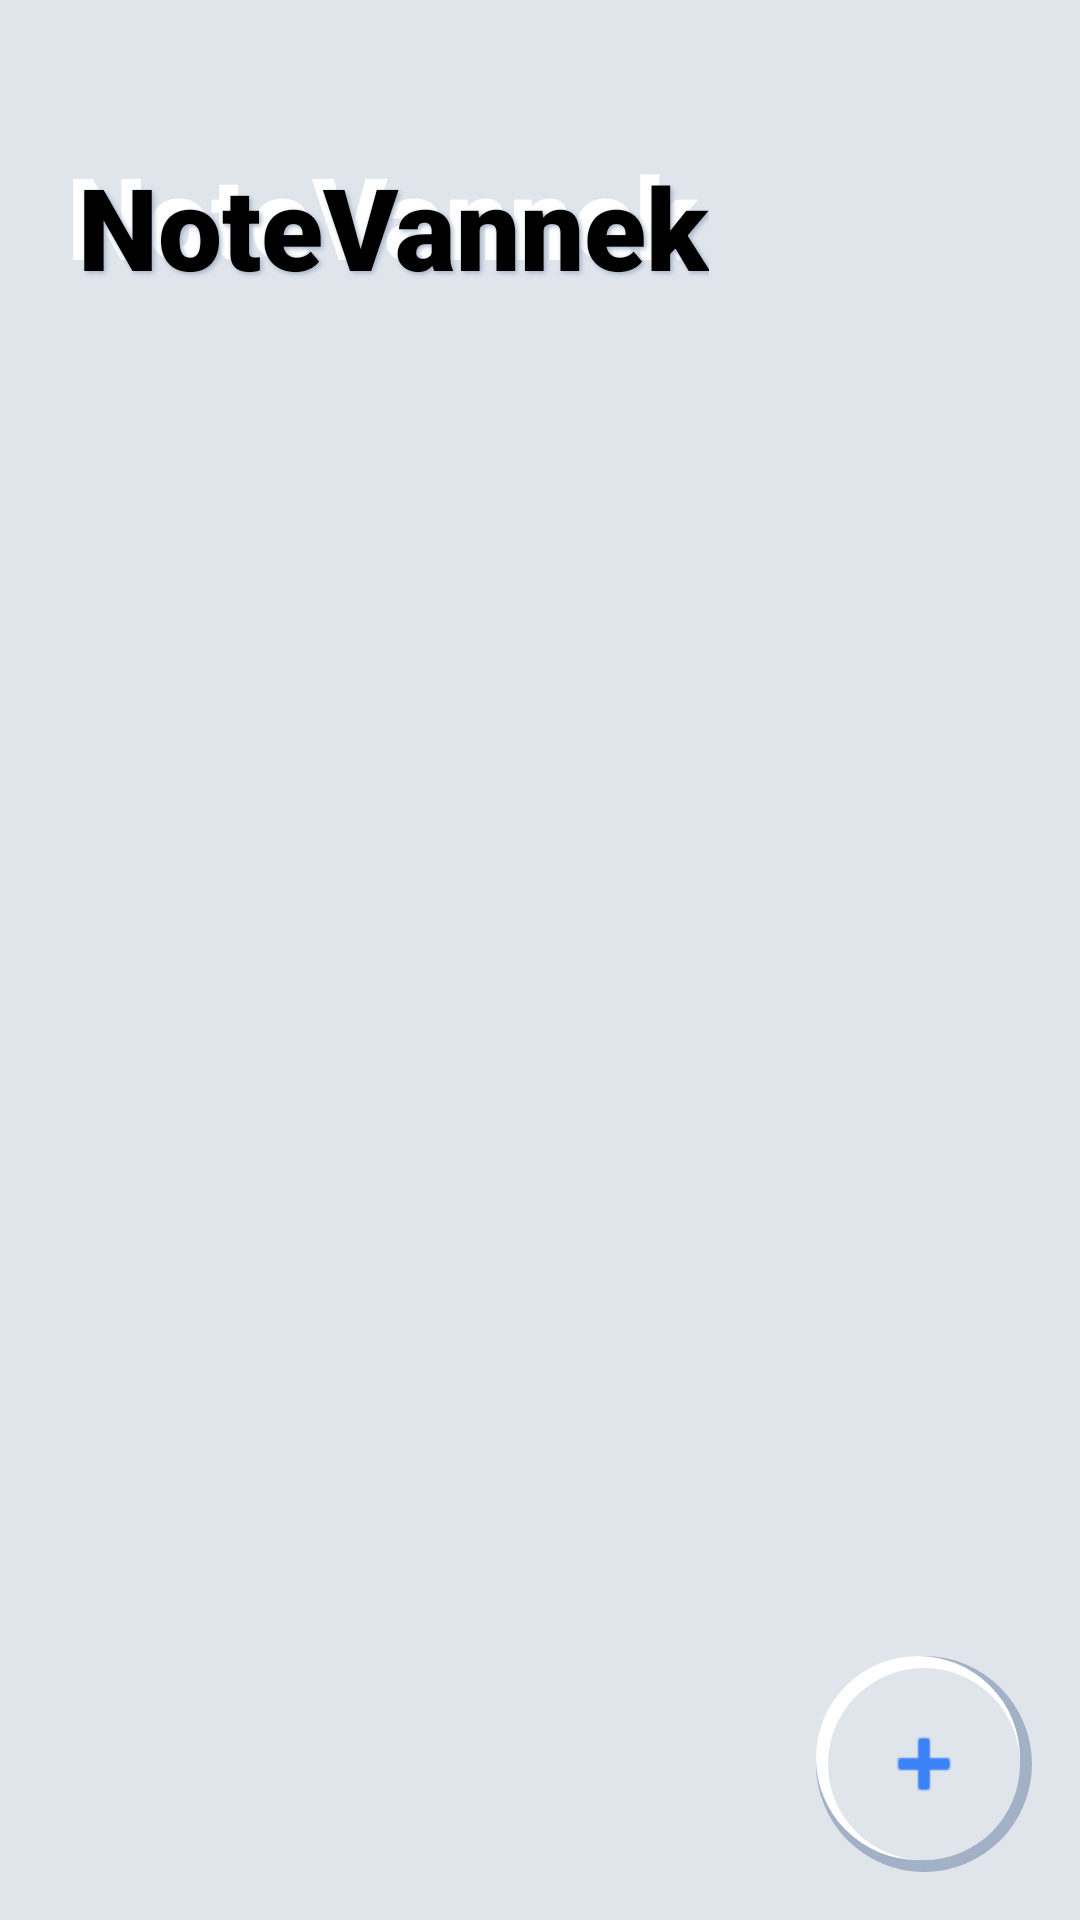

Where to tap for icons on this 1080×1920 app screen, as (x=x, y=y):
Добавить заметку: (x=924, y=1764)
